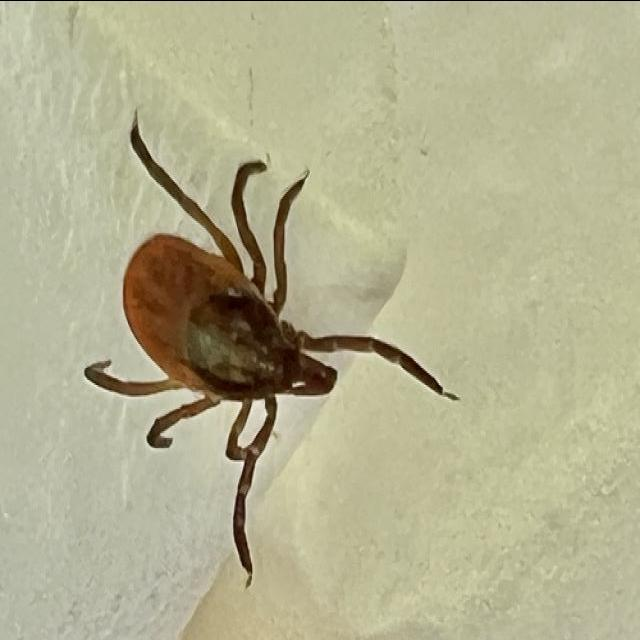Ixodes Ricinus-F: (86, 111, 457, 585)
